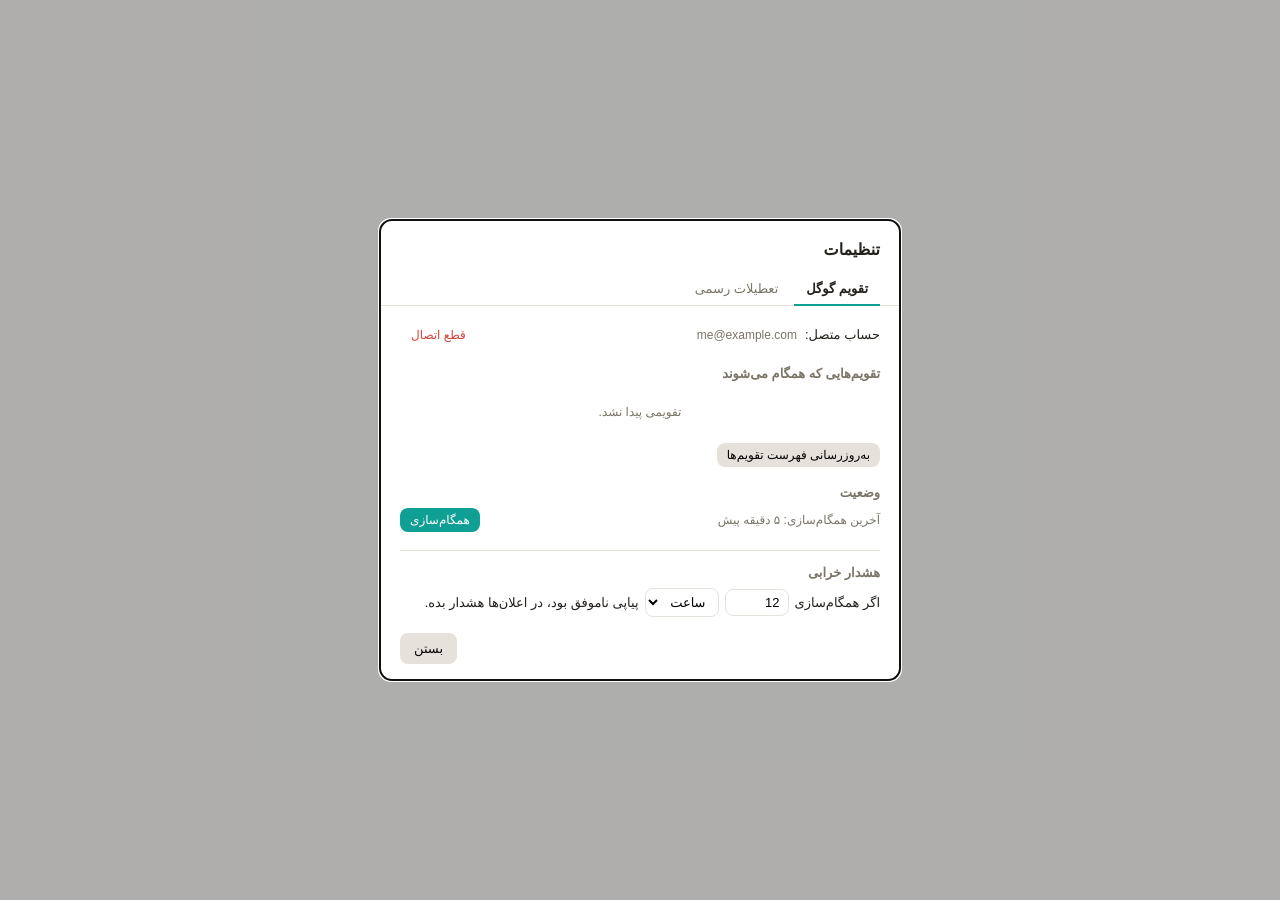
Test: Settings — failure alert thresholds › checks the range against the chosen unit: 45 hours is fine, 45 days is not
The width and height of the screenshot is (1280, 900).
Clear the number field named "مدت": (756,602) [724,589,788,616]
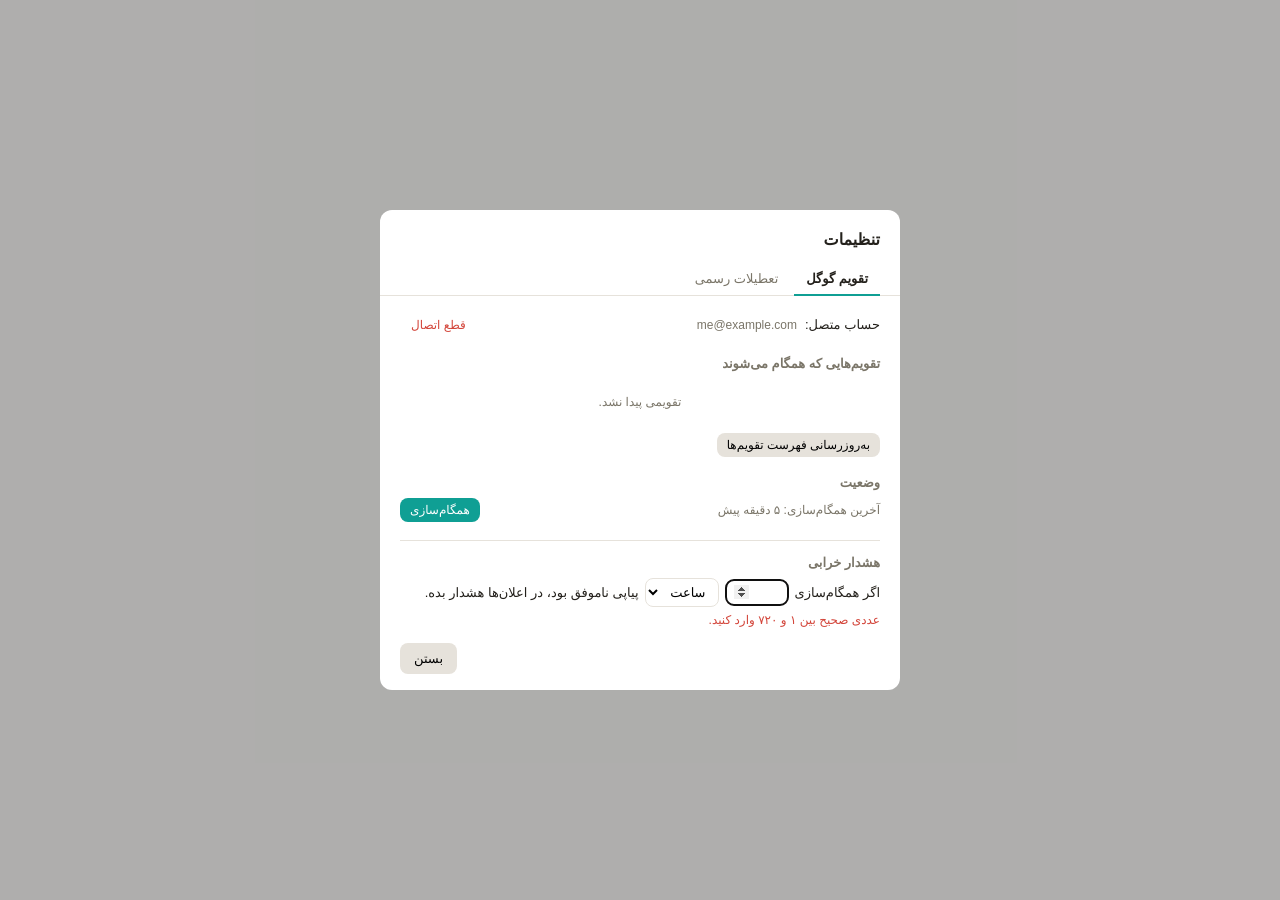
In the number field named "مدت": (756,592) [724,579,788,606], type "45"
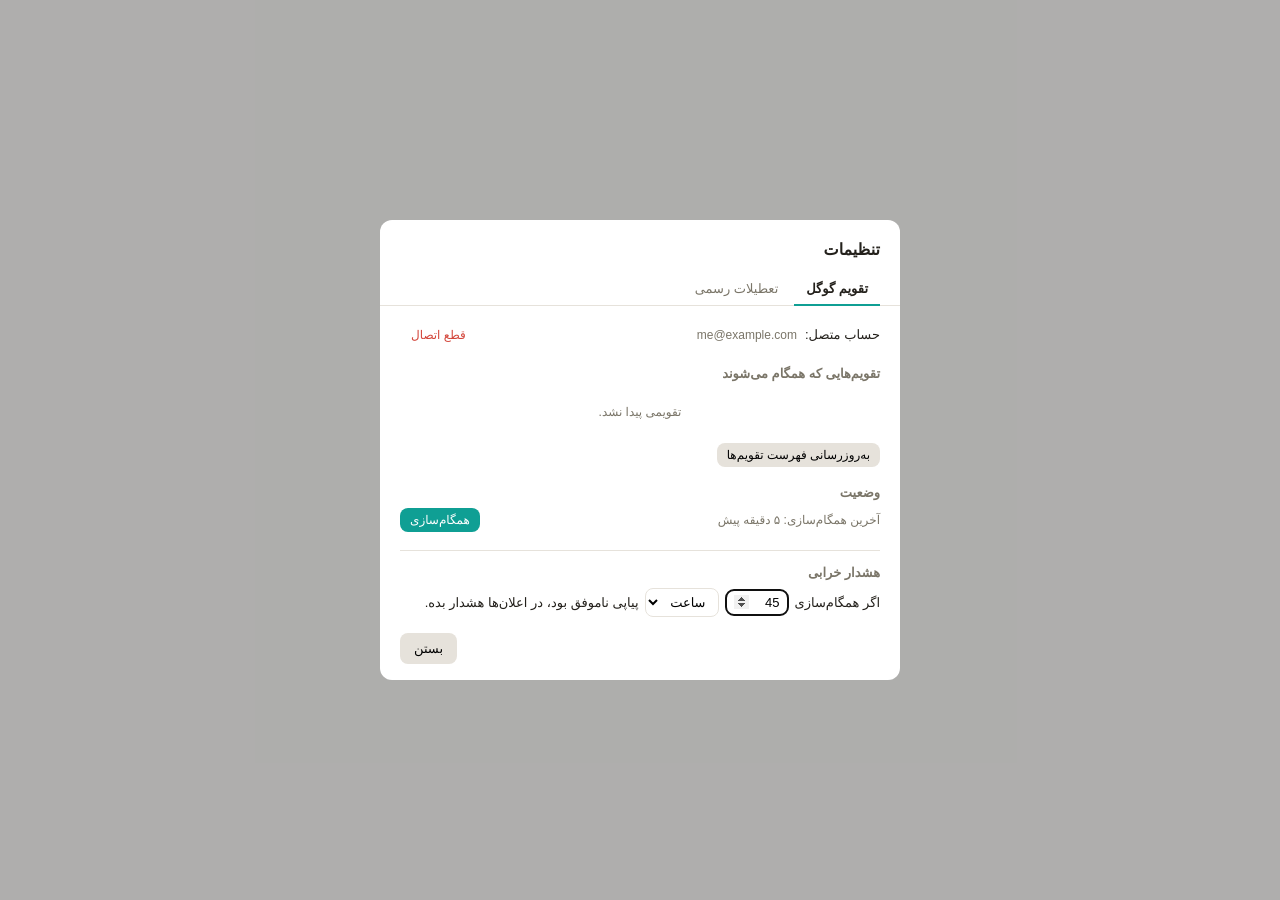
Press Tab
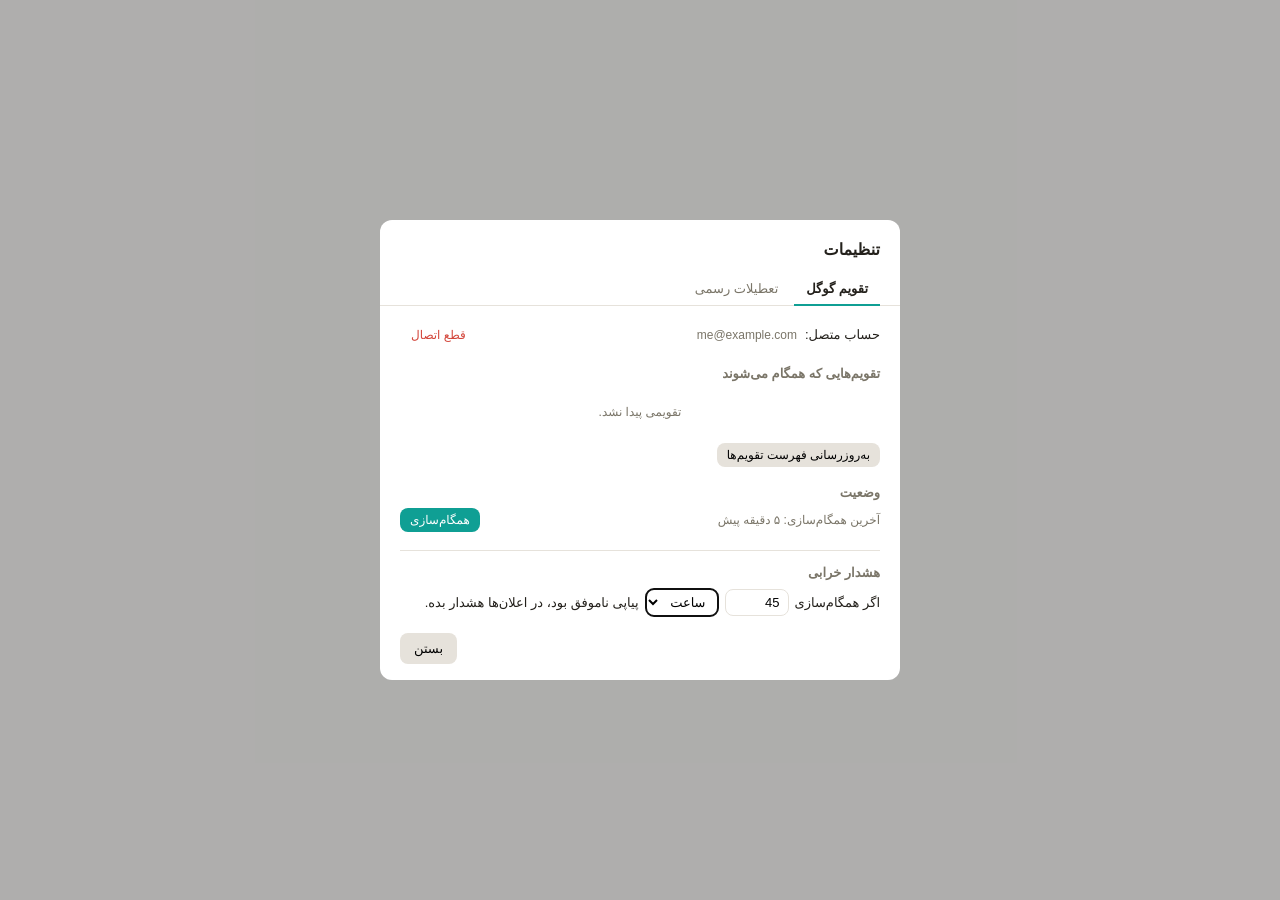
Select "روز" in the dropdown named "واحد مدت": (682,602) [644,588,718,617]
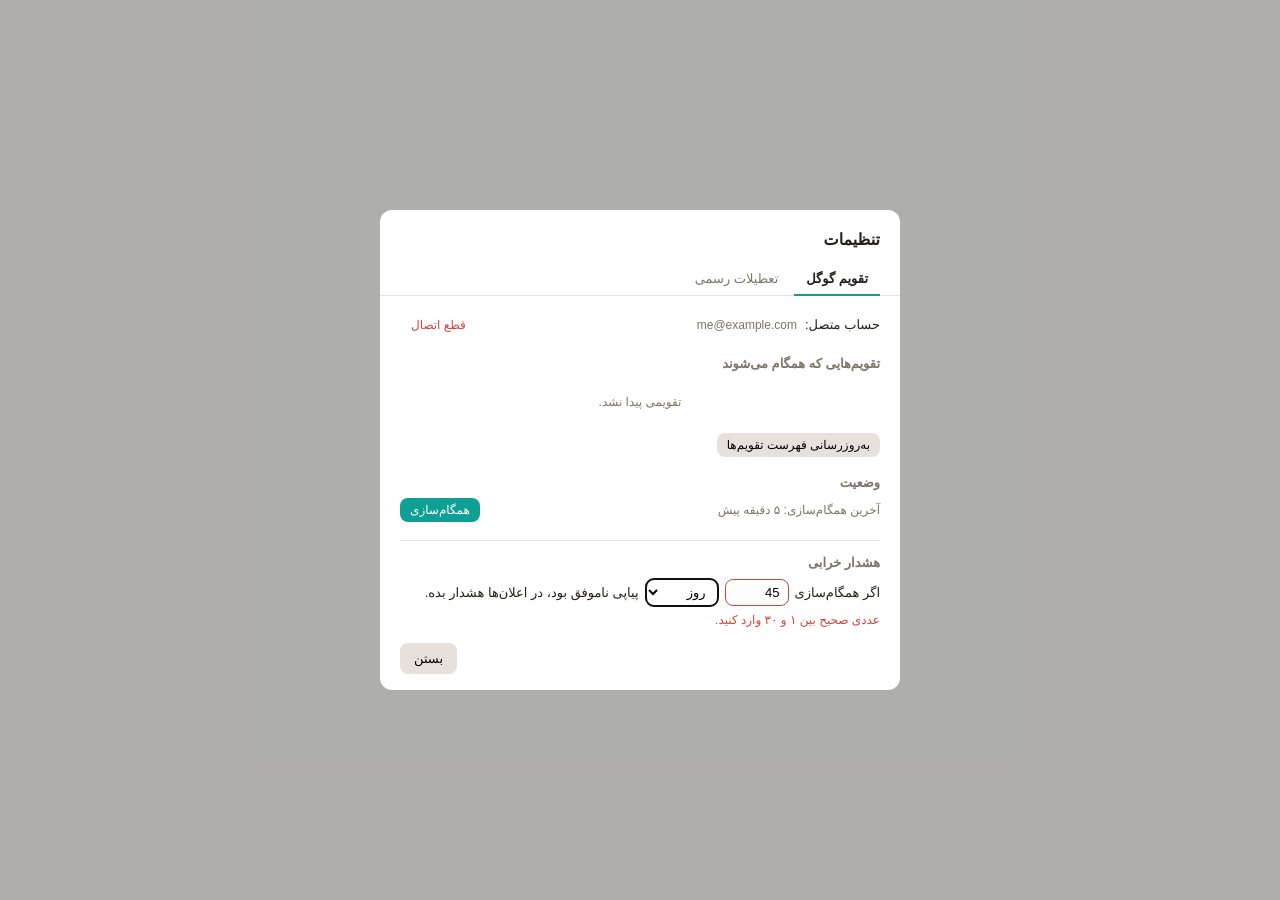
Check: the message "عددی صحیح بین ۱ و ۳۰ وارد کنید." is shown, box [715,613,880,627]
